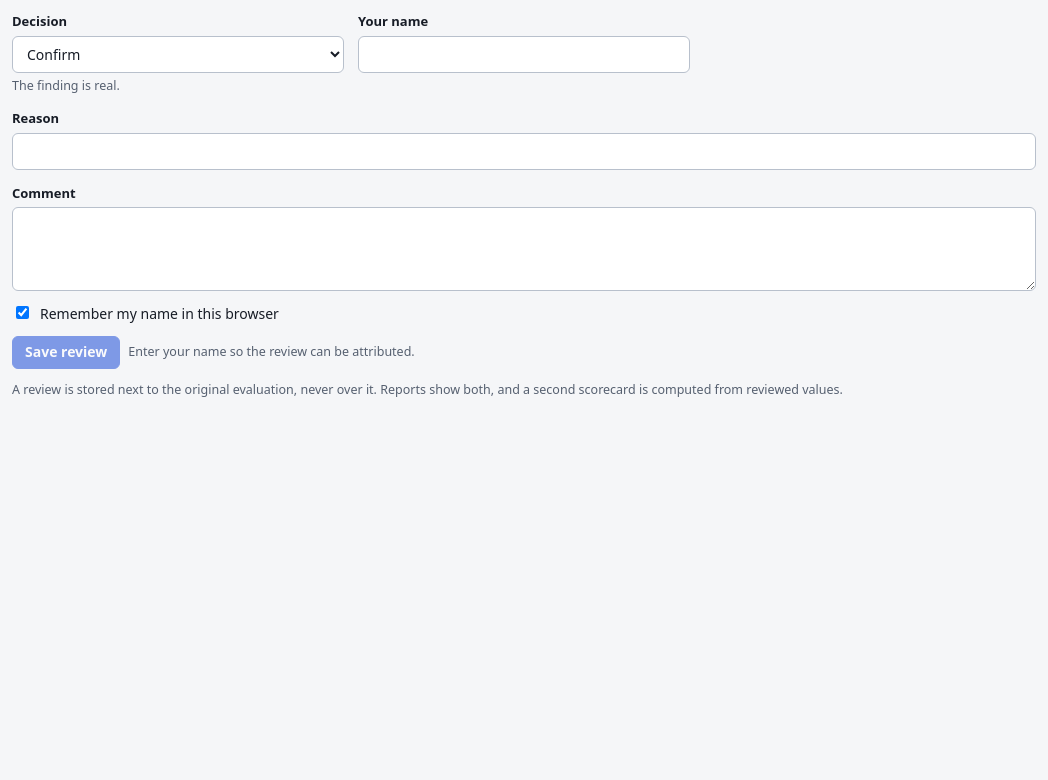
ReviewForm › saves a confirmation with what was typed, says the original is kept, and tells the screen
Type "  Sam Reviewer " into the field labelled "Your name" at (524, 54), box [358,36,690,72]
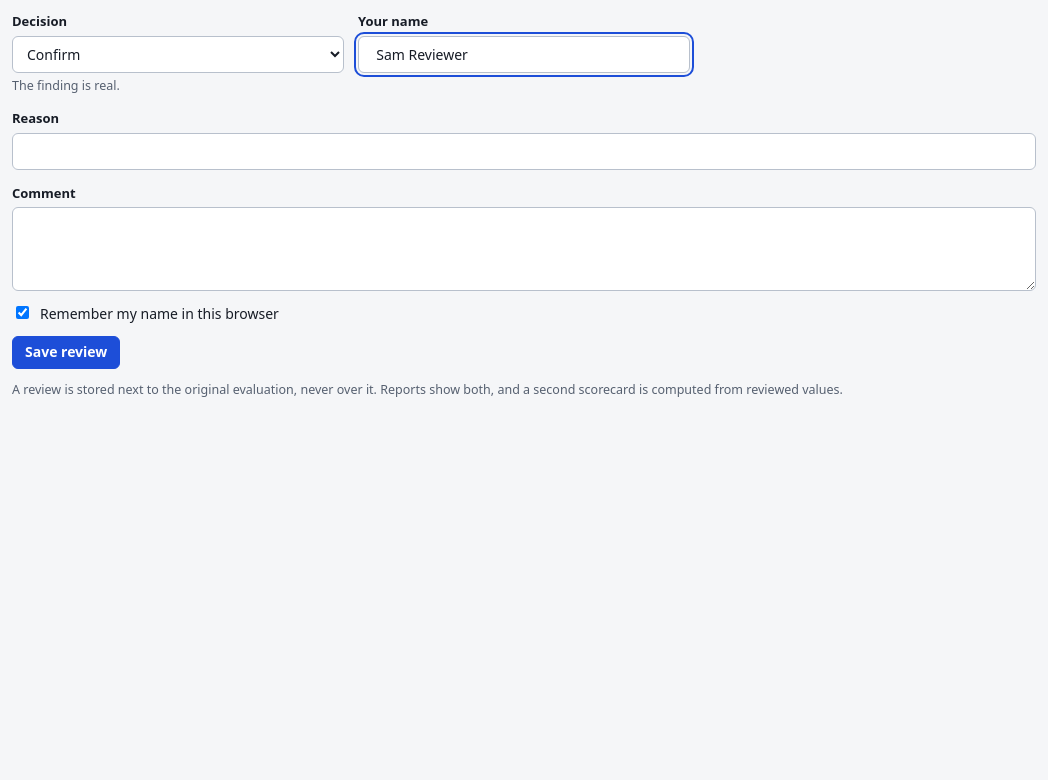
Type "Looks right to me" into the text box labelled "Comment" at (524, 249), box [12,207,1036,291]
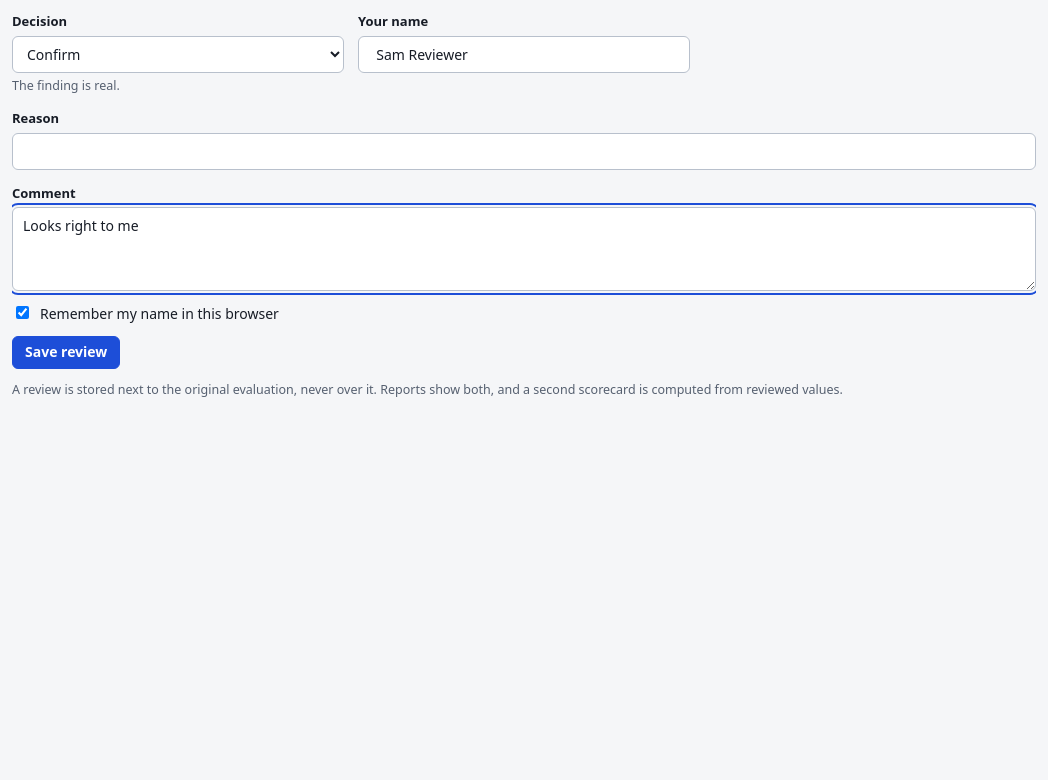
Click the button "Save review" at (66, 353), box [12,336,120,369]
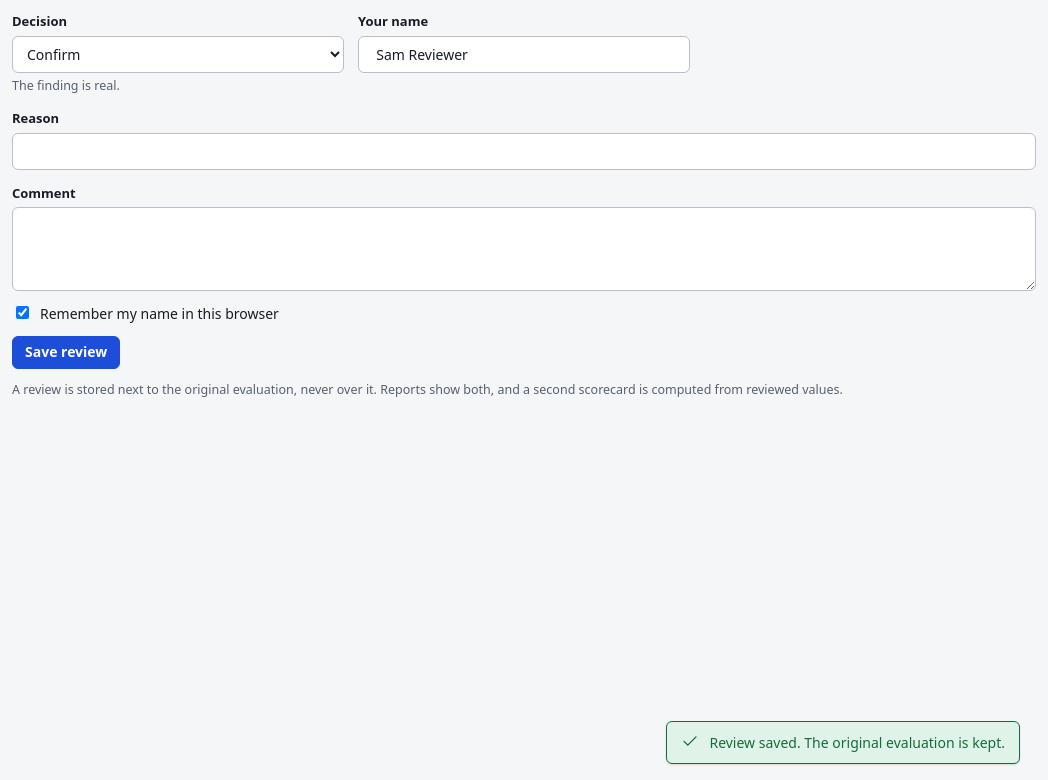
Expected: the text "Review saved. The original evaluation is kept." is shown, [709,732,1005,753]
